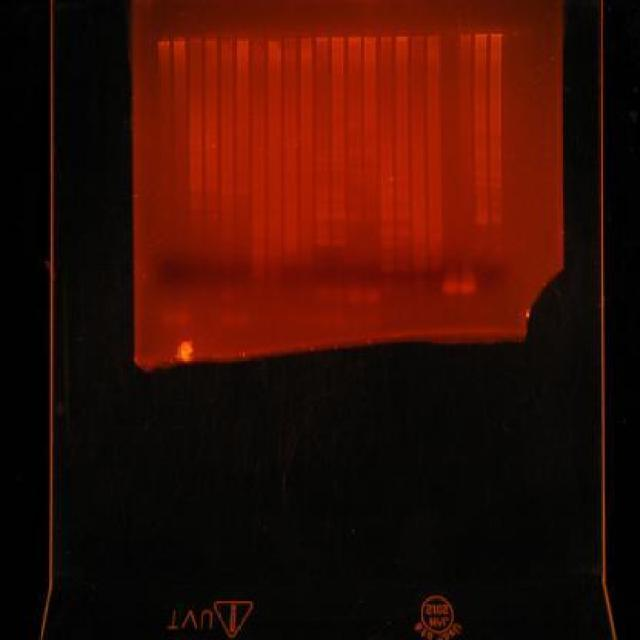B: (440, 277, 460, 297), (460, 276, 478, 298), (313, 284, 330, 306), (330, 286, 347, 306), (364, 288, 382, 306), (348, 288, 364, 307), (378, 238, 396, 248), (314, 212, 330, 223), (396, 263, 412, 274), (330, 212, 347, 222), (380, 210, 394, 222), (331, 238, 347, 248), (316, 237, 330, 248), (380, 263, 394, 274), (396, 212, 410, 223), (380, 228, 394, 238), (396, 228, 410, 238), (250, 230, 267, 238), (347, 177, 362, 186), (378, 192, 394, 200), (394, 193, 410, 201), (314, 193, 330, 201), (331, 230, 347, 238), (490, 217, 504, 226), (332, 164, 346, 173), (489, 170, 502, 179), (474, 218, 490, 225), (474, 170, 488, 178), (348, 214, 362, 222), (220, 189, 234, 197), (236, 188, 250, 196), (330, 156, 344, 164), (268, 249, 282, 257), (316, 229, 330, 237), (348, 167, 360, 176), (475, 180, 488, 188), (316, 165, 329, 173), (490, 182, 502, 190), (234, 183, 250, 189), (474, 122, 486, 130), (411, 232, 427, 238), (220, 183, 234, 189), (189, 200, 203, 206), (316, 158, 329, 164), (205, 200, 218, 206), (204, 205, 218, 210), (188, 205, 202, 210), (204, 185, 218, 190), (204, 182, 218, 186), (474, 131, 486, 134)
L: (152, 26, 506, 49)
Pc: (488, 28, 504, 40), (267, 31, 281, 44), (474, 28, 488, 40), (316, 30, 330, 42), (299, 30, 313, 42), (234, 34, 250, 44), (426, 29, 440, 40), (363, 32, 377, 43), (442, 29, 458, 38), (204, 34, 218, 44), (220, 34, 234, 44), (332, 32, 346, 42), (283, 32, 297, 42), (189, 36, 202, 46), (156, 37, 170, 46), (172, 37, 186, 46), (458, 29, 472, 38), (250, 33, 264, 42), (410, 32, 424, 40), (394, 32, 408, 40), (379, 32, 393, 40), (347, 33, 361, 41)
